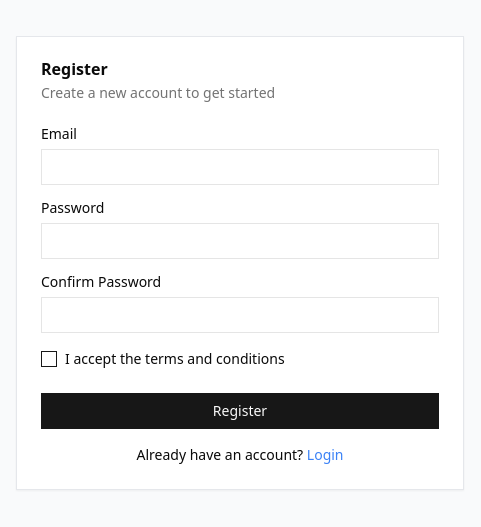
Test: RegisterPage › handles registration error and displays user-friendly message
Type "existing@example.com" into the field labelled "Email".
click(240, 167); type("existing@example.com")  # box [41,149,439,185]
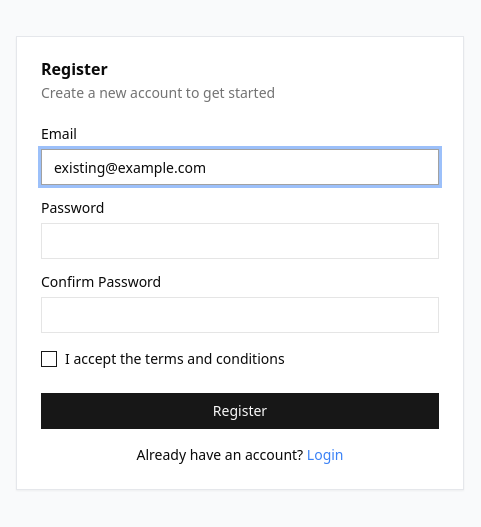
Type "password123" into the password field labelled "Password".
click(240, 241); type("password123")  # box [41,223,439,259]
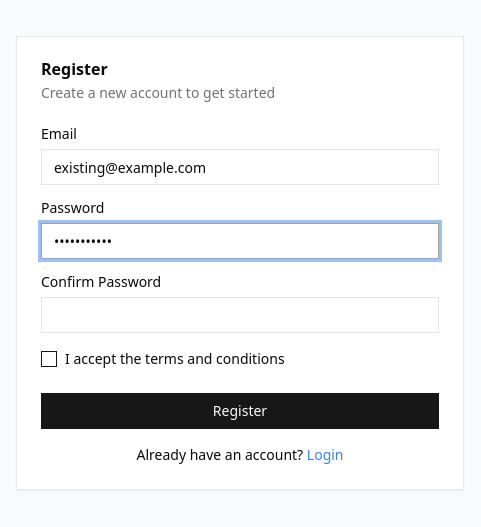
Type "password123" into the password field labelled "Confirm Password".
click(240, 315); type("password123")  # box [41,297,439,333]
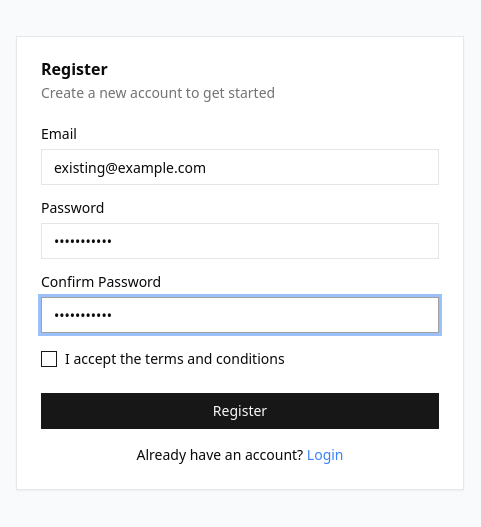
Click the checkbox named "accept the terms".
click(49, 359)  # box [41,351,57,367]
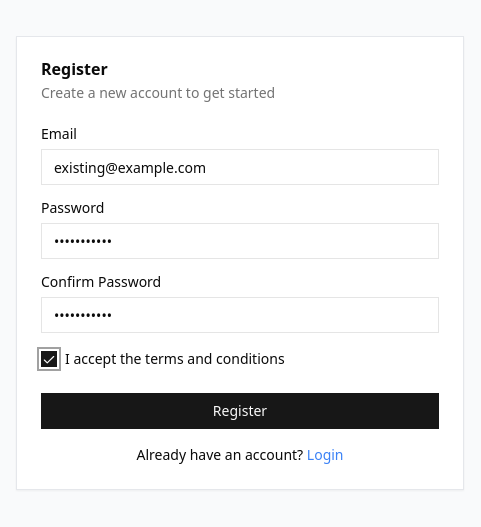
Click the button "Register".
click(240, 411)  # box [41,393,439,429]
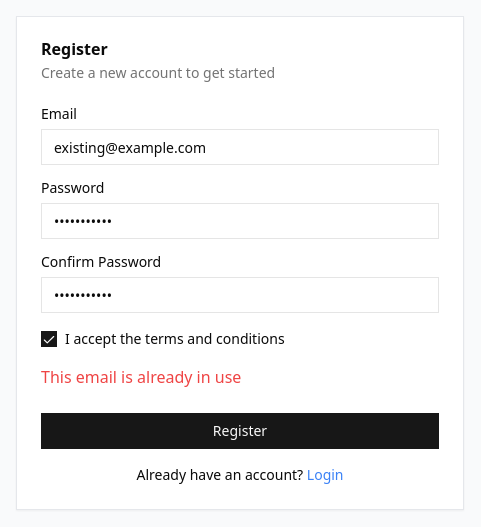
Expected: the text "This email is already in use" is shown, [41,366,241,388]
